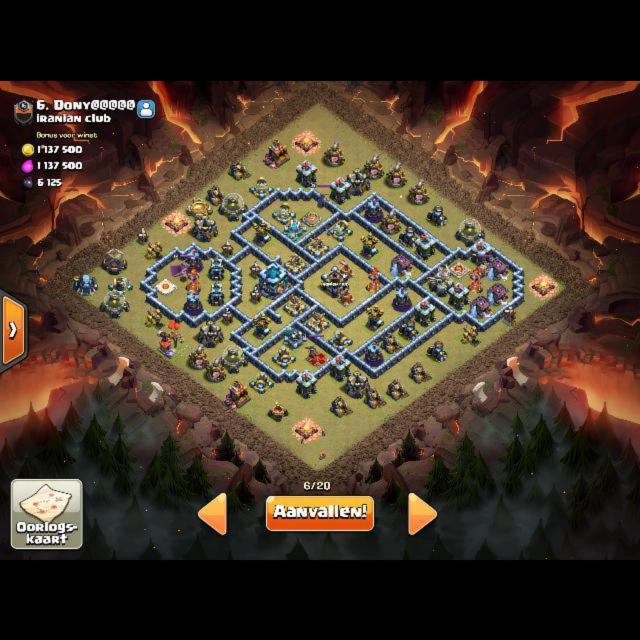AD: (253, 311, 272, 339), (253, 218, 272, 246), (360, 231, 379, 259), (365, 303, 383, 331)
AirSweeper: (337, 258, 355, 280), (337, 288, 355, 307)
BombTower: (209, 255, 224, 280), (209, 280, 224, 305)
Canon: (328, 329, 353, 351), (272, 345, 297, 367), (249, 371, 274, 393), (249, 176, 274, 198), (272, 202, 297, 224), (328, 219, 353, 241), (108, 275, 132, 296)
ClanCastle: (321, 264, 348, 296)
Eagle: (428, 264, 455, 297)
Inferno: (366, 266, 381, 292), (186, 267, 201, 292), (468, 268, 483, 293)
KingPad: (449, 262, 470, 277)
Mortar: (398, 319, 419, 341), (427, 340, 448, 362), (426, 204, 447, 226), (398, 225, 419, 247)
QueenPad: (307, 350, 330, 367)
RcPad: (303, 211, 321, 225)
Scattershot: (284, 325, 307, 349), (284, 218, 307, 241)
TH13: (257, 261, 288, 299)
WardenPad: (156, 279, 175, 293)
WizzTower: (364, 341, 382, 366), (364, 198, 382, 223), (184, 249, 202, 274), (392, 286, 410, 311), (184, 291, 202, 316)
Xbow: (305, 311, 330, 334), (283, 294, 307, 317), (305, 236, 330, 258), (282, 254, 307, 275)
